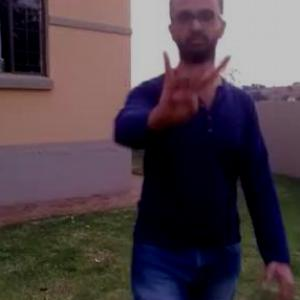takeoff-hand: (155, 41, 232, 131)
